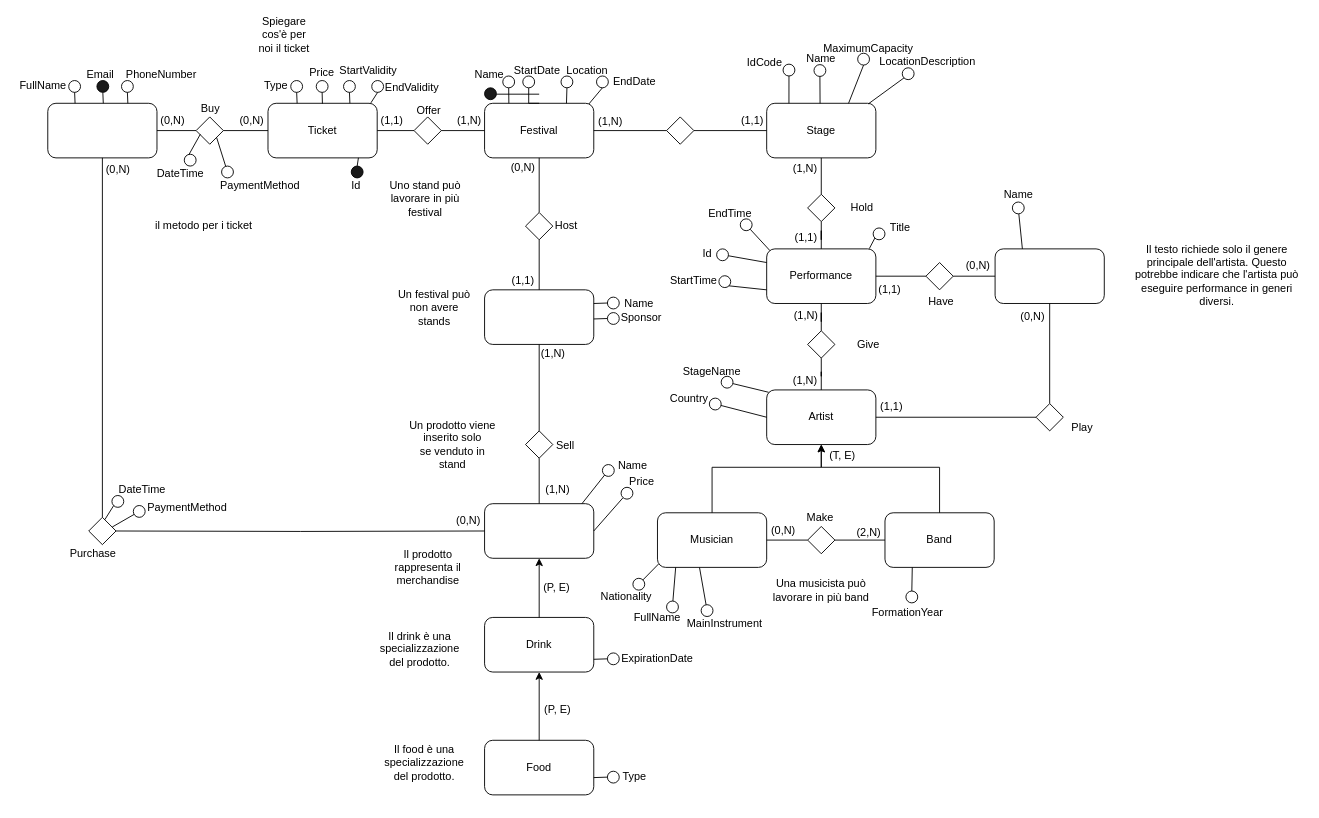
The diagram is 1319 pixels wide and 818 high, and some of its shapes have lost their labels. Here are the shapes that lost their labels. From the top down, the centre of each, then its label:
At [102,130]: "Person".
At [1049,275]: "Genre".
At [539,316]: "Stand".
At [539,530]: "Product".
